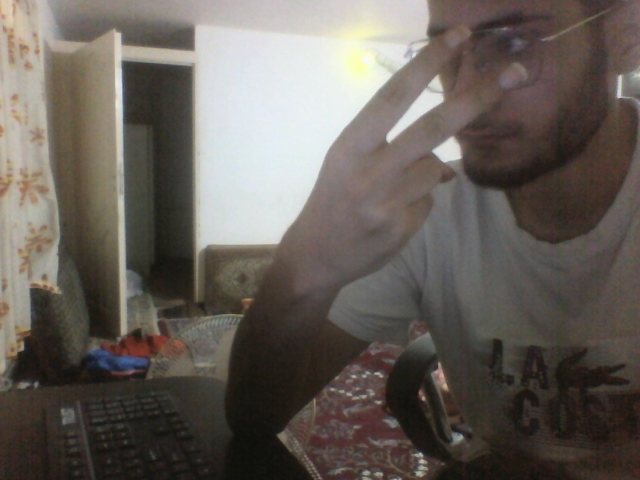Azadi: (276, 22, 532, 287)
